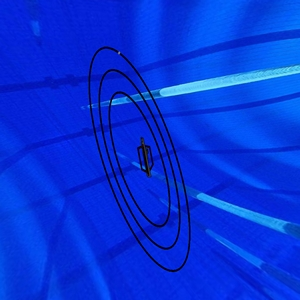circle: (87, 44, 193, 274)
submarine: (134, 136, 158, 179)
